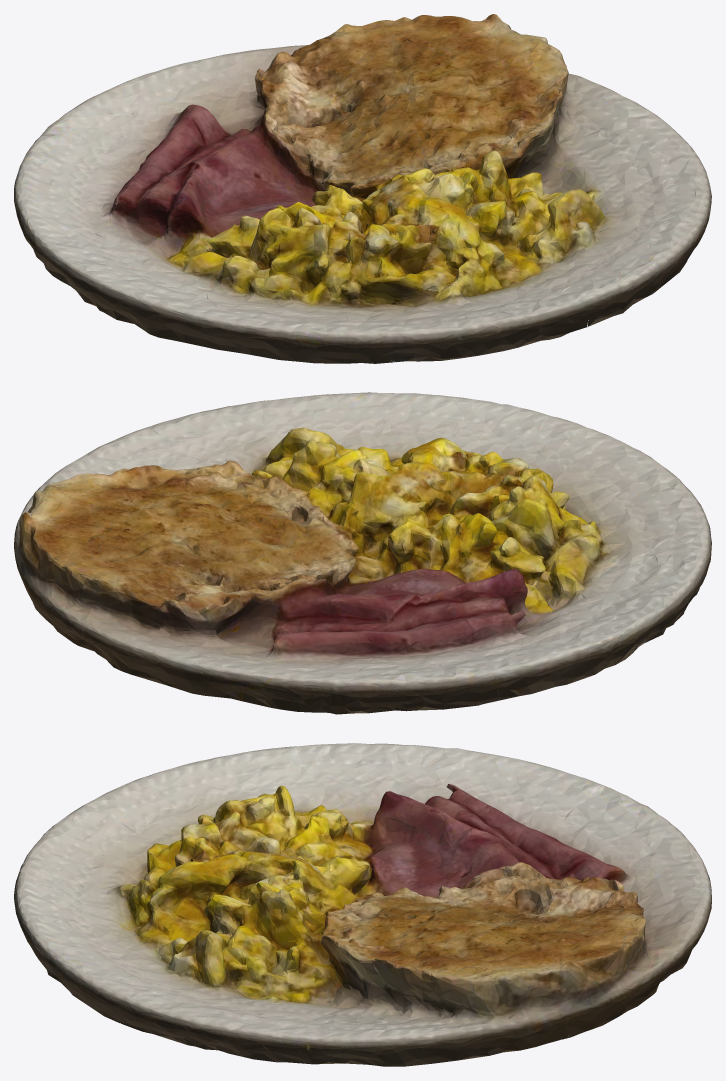
3 renders of one model, top to bottom at view 1: azimuth 30°, elevation 25°; view 2: azimuth 150°, elevation 25°; view 3: azimuth 270°, elevation 25°, orthographic.
Bounding box in the file's own units: 0.2668 × 0.0336 × 0.2667.
1 material, 1 textured.
